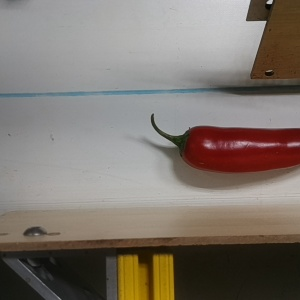Cut Point: (172, 124, 203, 169)
